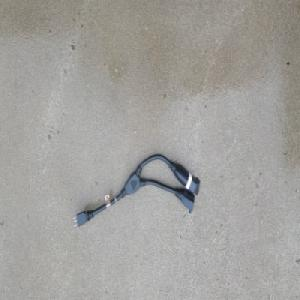Wire: (71, 153, 200, 230)
